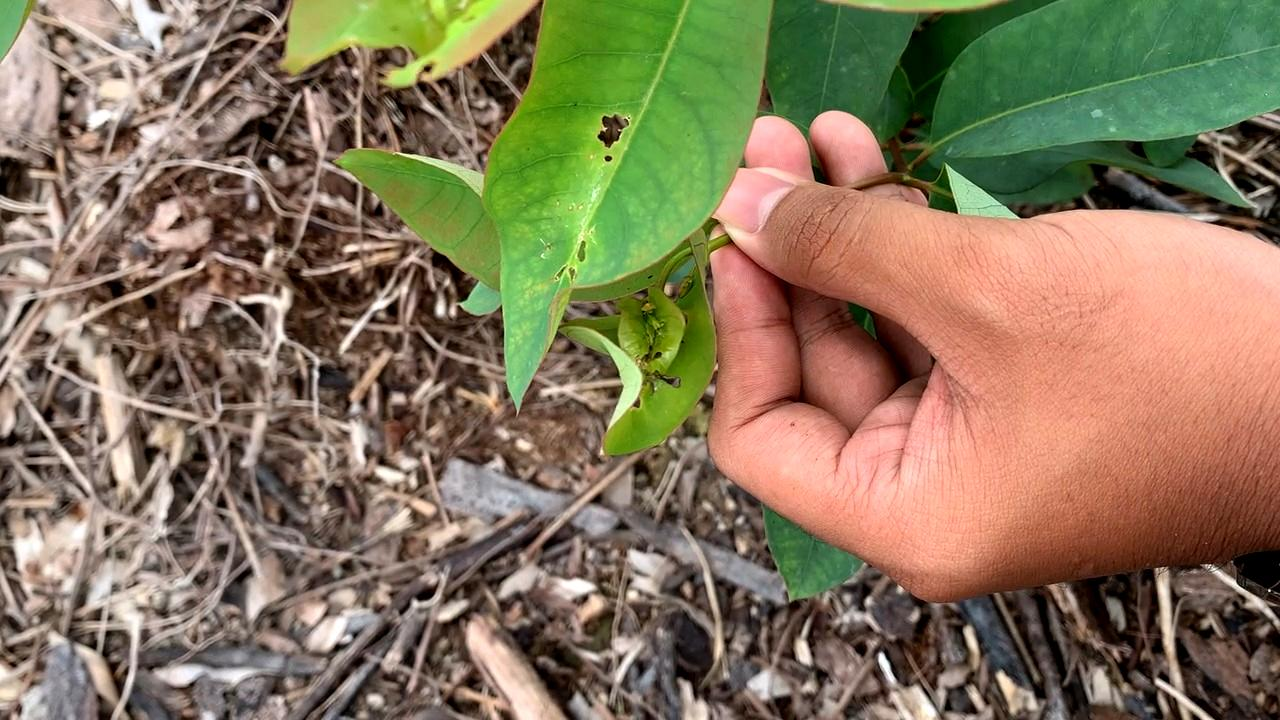Leaf Roller - Leaf: (570, 277, 721, 424)
